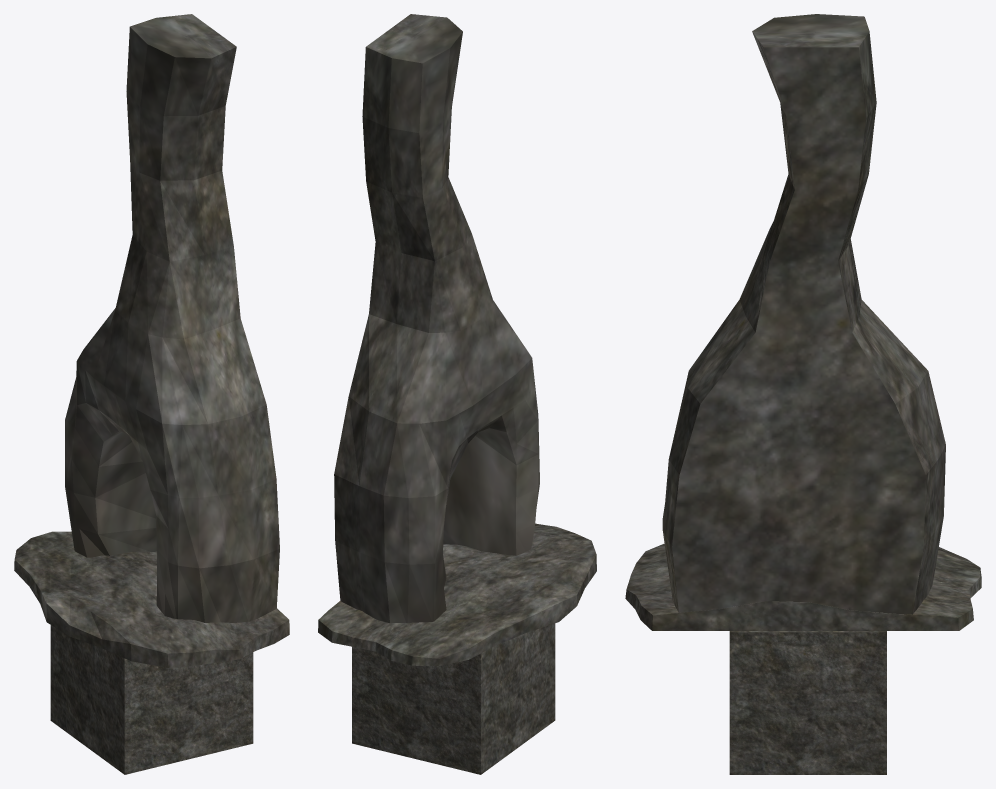
File: fireplace.obj
The picture shows the model from 3 angles, left to right: view 1: azimuth 30°, elevation 25°; view 2: azimuth 150°, elevation 25°; view 3: azimuth 270°, elevation 25°; orthographic projection. The views are drawn at different scales.
Visible parts, largest first — view 1: Plane.001, Cube; view 2: Plane.001, Cube; view 3: Plane.001, Cube.
Boxes of the visible parts, bbox=[...] form: Plane.001: bbox=[14, 14, 289, 667]; Cube: bbox=[50, 625, 253, 774]; Plane.001: bbox=[318, 14, 596, 665]; Cube: bbox=[352, 623, 555, 774]; Plane.001: bbox=[625, 14, 981, 630]; Cube: bbox=[729, 631, 886, 774].
Size of the model in its own units: 1.32 by 5.1 by 2.26.
